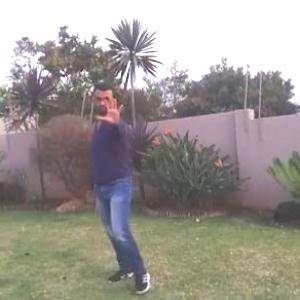follow_hand: (92, 92, 126, 128)
